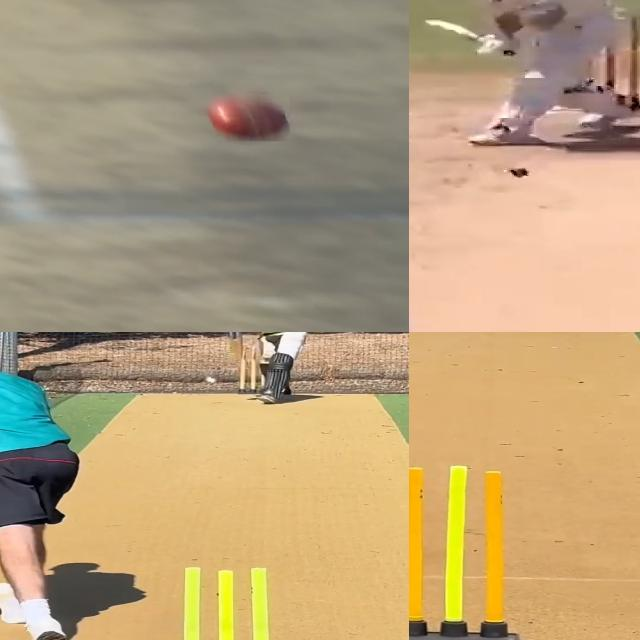Cricket ball: (204, 89, 290, 141), (507, 164, 531, 178), (204, 376, 218, 383)
Stumps: (409, 465, 520, 640), (166, 563, 295, 640), (597, 12, 640, 118), (240, 345, 267, 395)
